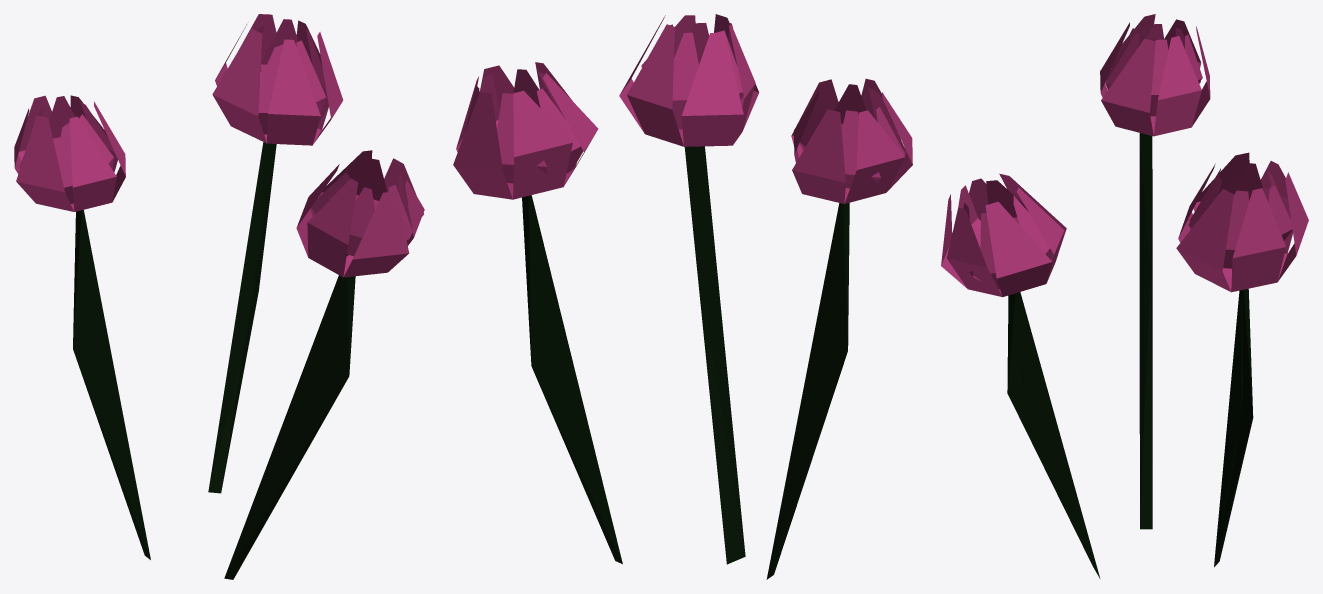
Rendered from enchantedforest_flower_5.glb.
The picture shows the model from 3 angles, left to right: view 1: azimuth 30°, elevation 25°; view 2: azimuth 150°, elevation 25°; view 3: azimuth 270°, elevation 25°; orthographic projection. The views are drawn at different scales.
Visible parts, largest first — view 1: Cylinder.011.1; view 2: Cylinder.011.1; view 3: Cylinder.011.1.
Part boxes in pixels (x1=…): Cylinder.011.1: x1=14, y1=14, x2=424, y2=579; Cylinder.011.1: x1=453, y1=14, x2=912, y2=579; Cylinder.011.1: x1=941, y1=14, x2=1308, y2=578.
Size of the model in its own units: 0.4592 by 0.5865 by 0.4029.
